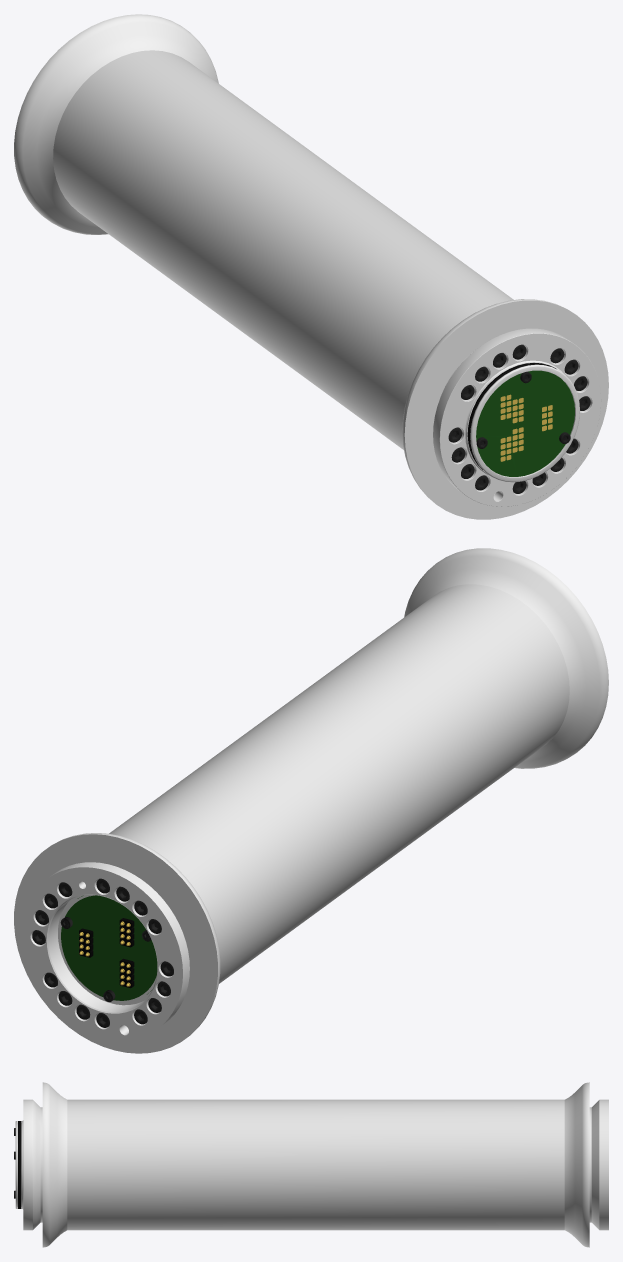
3 views of the same model, one above another, from view 1: azimuth 30°, elevation 25°; view 2: azimuth 150°, elevation 25°; view 3: azimuth 270°, elevation 25° (orthographic). The views are drawn at different scales.
Visible parts, largest first — view 1: I86.001; view 2: I86.001; view 3: I86.001.
Part boxes in pixels (x1,y1,x2,y2): I86.001: (14, 14, 608, 519); I86.001: (14, 548, 608, 1053); I86.001: (14, 1082, 608, 1247).
Size of the model in its own units: 0.086 by 0.086 by 0.3098.
